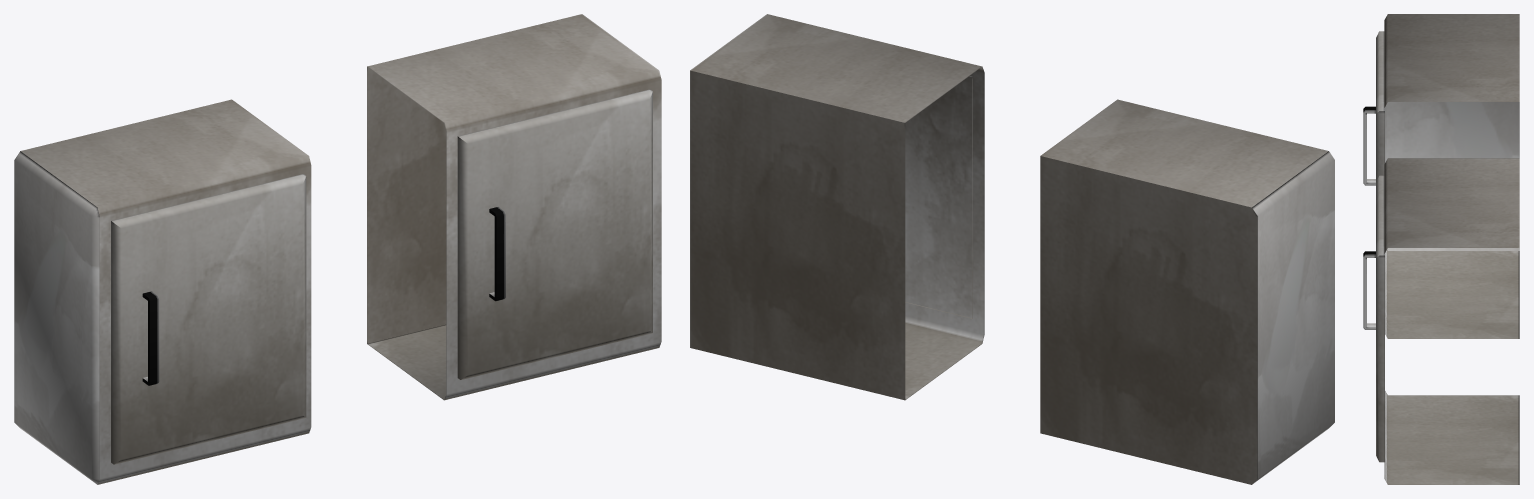
File: Cupboard_Asset.fbx
3 views of the same model, side by side, from view 1: azimuth 30°, elevation 25°; view 2: azimuth 150°, elevation 25°; view 3: azimuth 270°, elevation 25° (orthographic). The views are drawn at different scales.
Visible parts, largest first — view 1: CupboardCorner, CupboardPart; view 2: CupboardPart, CupboardCorner; view 3: CupboardCorner, CupboardPart.
Part boxes in pixels (x1,y1,x2,y2): CupboardCorner: [14, 99, 311, 484]; CupboardPart: [367, 14, 661, 400]; CupboardPart: [690, 14, 984, 400]; CupboardCorner: [1040, 99, 1334, 484]; CupboardCorner: [1363, 14, 1519, 338]; CupboardPart: [1363, 158, 1519, 484].
Size of the model in its own units: 126 by 35.22 by 58.89.
Materials: 1 (1 with a texture image).
